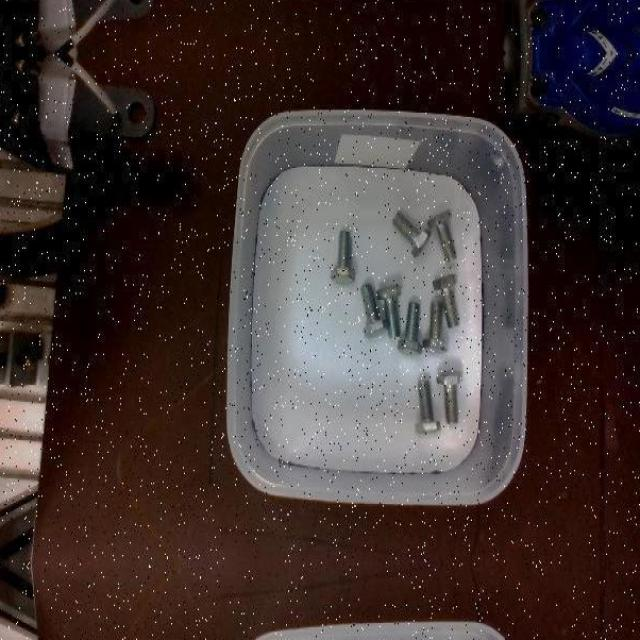screw: (391, 210, 430, 256), (428, 207, 458, 261), (359, 284, 387, 339), (432, 273, 460, 327), (436, 369, 462, 424), (422, 301, 449, 353), (415, 378, 441, 431), (397, 301, 422, 356), (377, 284, 402, 337), (331, 230, 355, 285)
